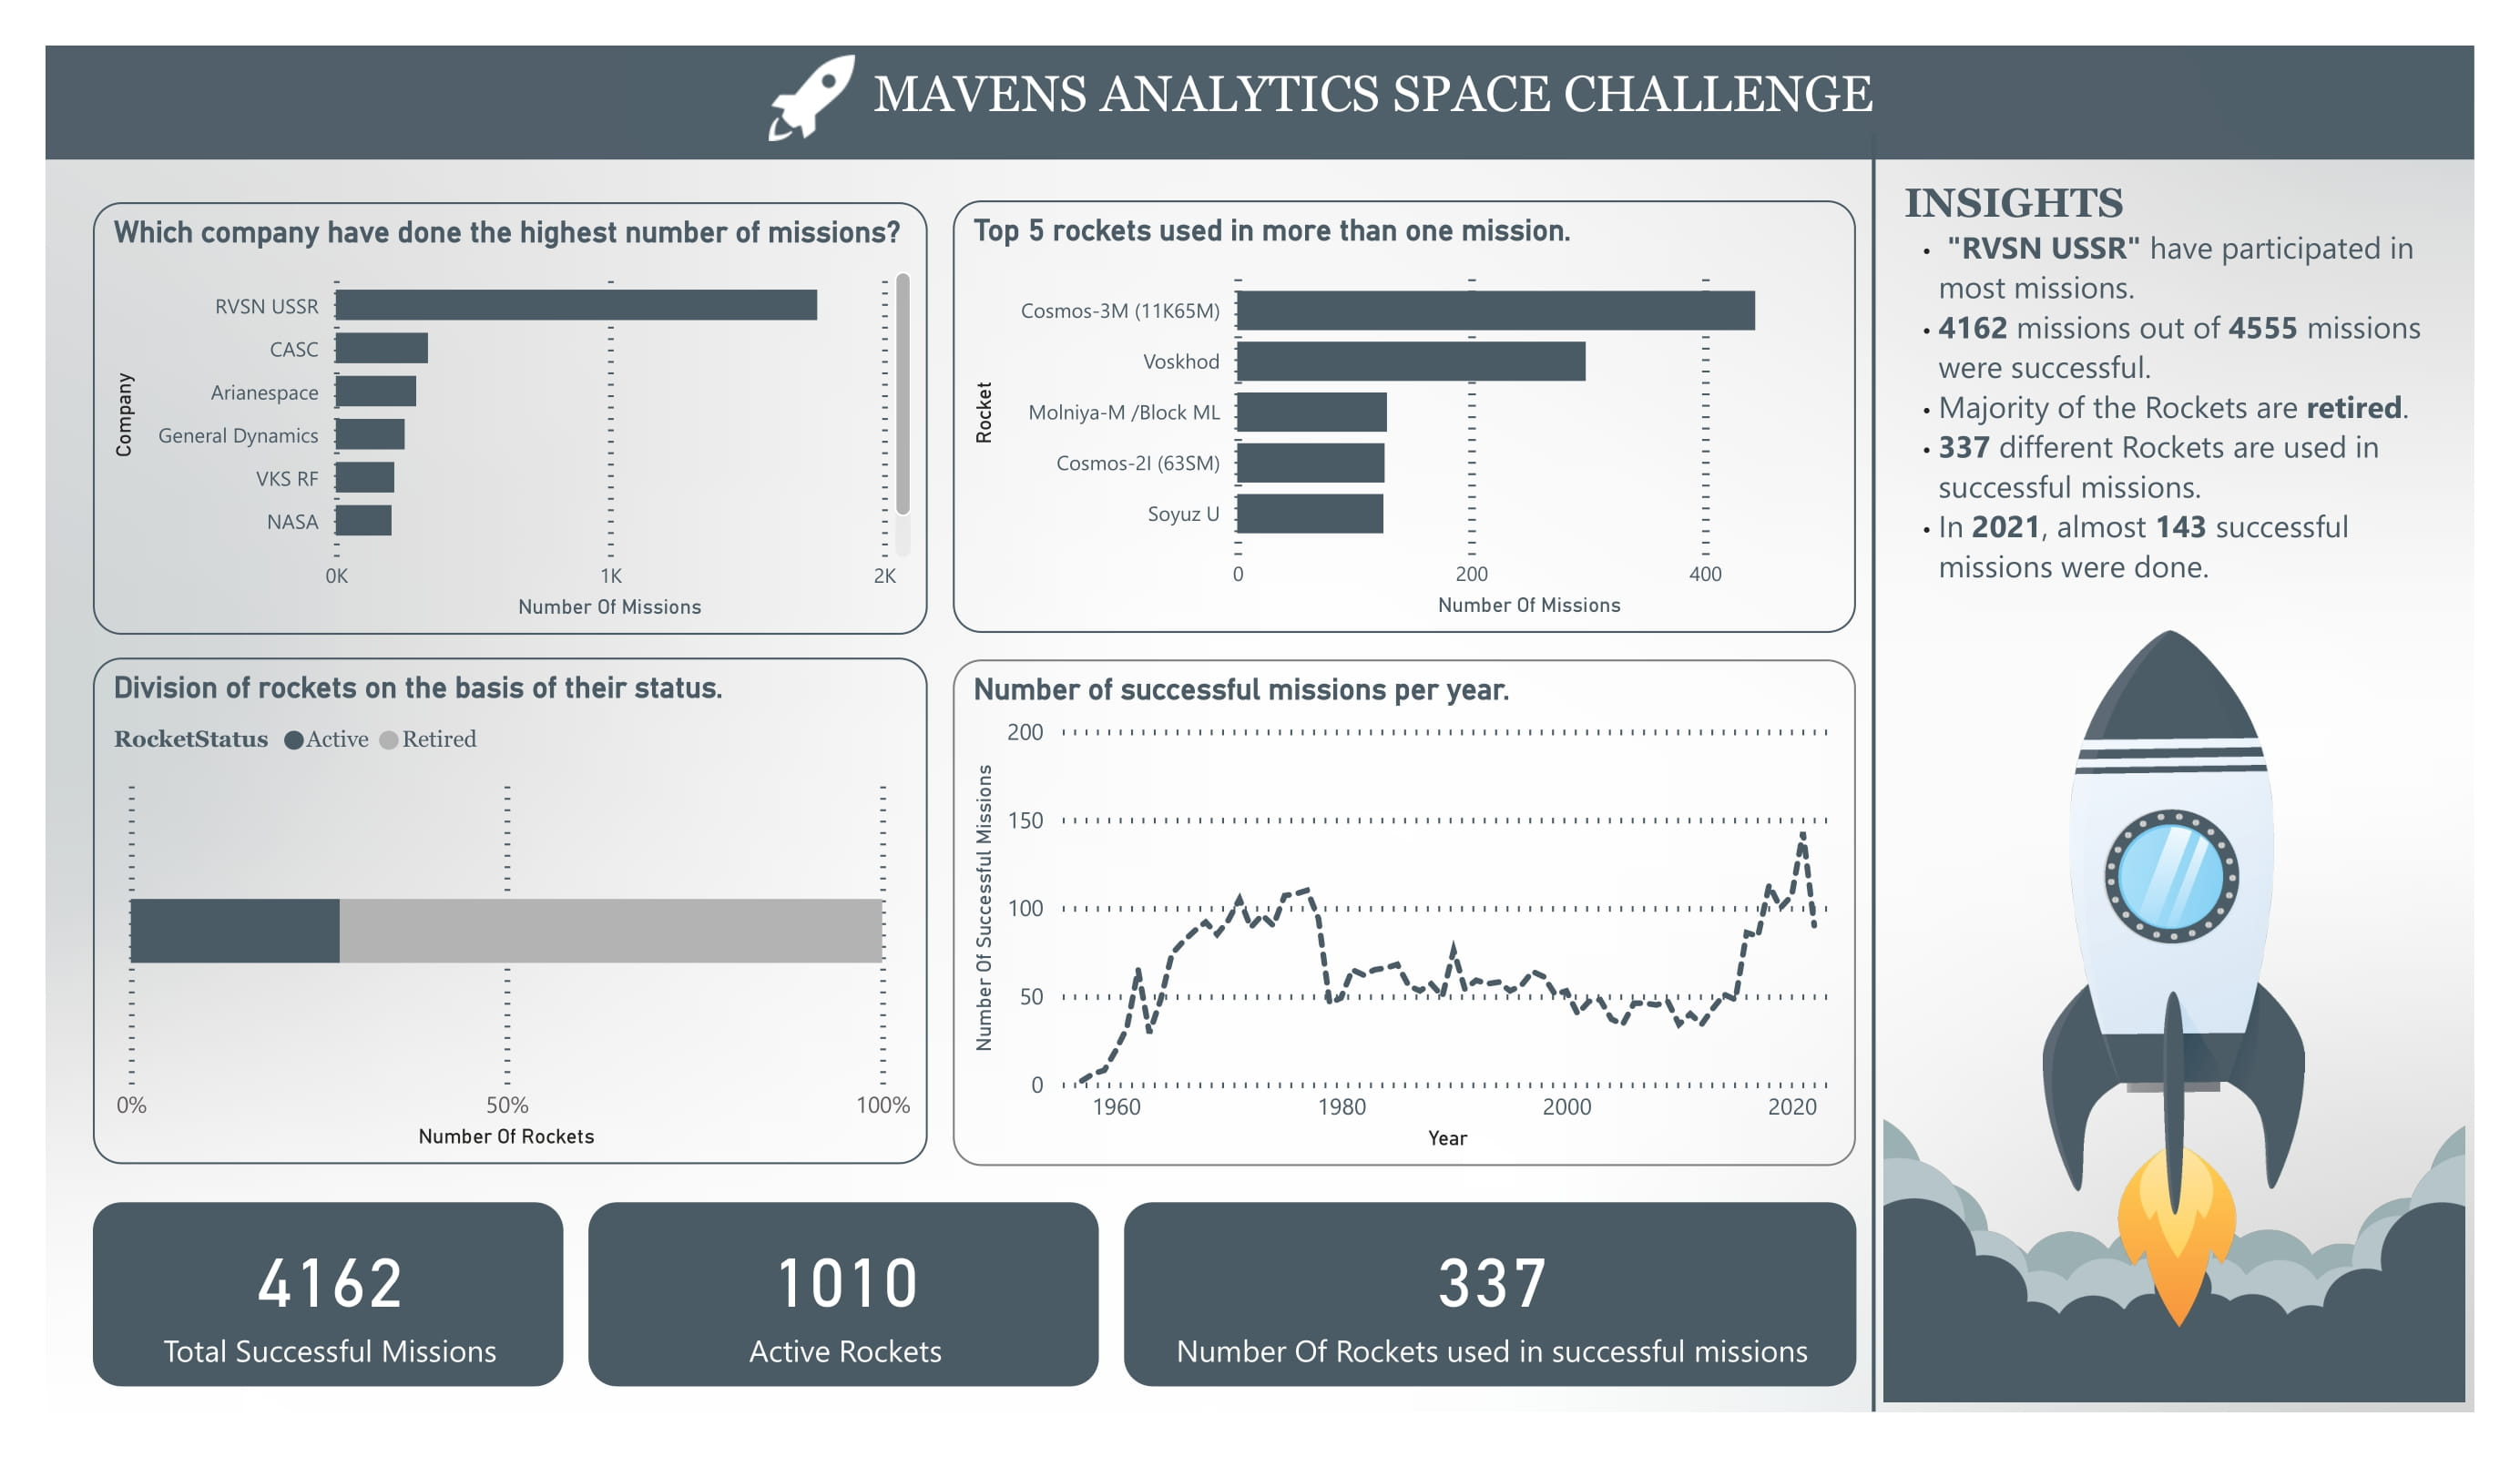

What the dashboard file says about the page in this screenshot:
{"tool":"powerbi","page":{"name":"Page 1","canvas":[1280,720],"ordinal":0},"visuals":[{"type":"hundredPercentStackedBarChart","title":"Division of rockets on the basis of their status.","fields":{"Y":["Count(space_missions.Rocket)"],"Series":["space_missions.RocketStatus"]},"box":[25,322.6,439.8,266.9],"z":0},{"type":"barChart","title":"Which company have done the highest number of missions?","fields":{"Category":["space_missions.Company"],"Y":["Count(space_missions.Mission)"]},"box":[25,82.5,439.8,227.6],"z":1000},{"type":"barChart","title":"Top 5 rockets used in more than one mission.","fields":{"Category":["space_missions.Rocket"],"Y":["Count(space_missions.Mission)"]},"box":[478.2,81.6,476.3,227.6],"z":2000},{"type":"shape","box":[0,0,1280,59.5],"z":3000},{"type":"textbox","box":[431.1,5.8,550.2,40.3],"z":4000},{"type":"lineChart","title":"Number of successful missions per year.","fields":{"Category":["space_missions.Date.Variation.Date Hierarchy.Year","space_missions.Date.Variation.Date Hierarchy.Quarter","space_missions.Date.Variation.Date Hierarchy.Month","space_missions.Date.Variation.Date Hierarchy.Day"],"Y":["space_missions.success"]},"box":[478.2,323.6,476.3,266.9],"z":5000},{"type":"card","fields":{"Values":["space_missions.success"]},"box":[25,609.8,247.7,97],"z":7000},{"type":"card","fields":{"Values":["space_missions.Measure"]},"box":[286.2,609.8,268.9,97],"z":8000},{"type":"card","fields":{"Values":["space_missions.Measure2"]},"box":[568.5,609.8,386,97],"z":9000},{"type":"shape","box":[952.6,46.1,22.1,674.1],"z":11000},{"type":"textbox","box":[974.6,65.3,305.4,279.4],"z":12000},{"type":"image","box":[964.1,343.8,315.9,376.4],"z":12001},{"type":"image","box":[970.8,303.4,300.6,377.4],"z":12002},{"type":"image","box":[376.4,0,54.7,54.7],"z":12003}]}

Visuals, with their boxes in screenshot pixels (x1, y1, x2, y2):
"Division of rockets on the basis of their status." hundredPercentStackedBarChart: l=93, t=657, r=927, b=1164
"Which company have done the highest number of missions?" barChart: l=93, t=202, r=927, b=634
"Top 5 rockets used in more than one mission." barChart: l=953, t=200, r=1857, b=632
shape: l=46, t=46, r=2474, b=158
textbox: l=863, t=56, r=1908, b=133
"Number of successful missions per year." lineChart: l=953, t=659, r=1857, b=1166
card - space_missions.success: l=93, t=1202, r=563, b=1386
card - space_missions.Measure: l=588, t=1202, r=1099, b=1386
card - space_missions.Measure2: l=1125, t=1202, r=1857, b=1386
shape: l=1853, t=133, r=1895, b=1411
textbox: l=1895, t=169, r=2474, b=699
image: l=1875, t=698, r=2474, b=1411
image: l=1888, t=621, r=2458, b=1337
image: l=760, t=46, r=863, b=149
